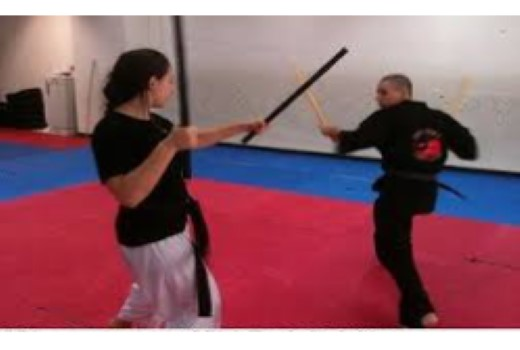baston_e: (254, 53, 331, 140), (166, 21, 195, 123)
baston_v: (337, 35, 356, 56), (179, 168, 197, 183), (170, 8, 183, 25), (239, 135, 250, 144)
